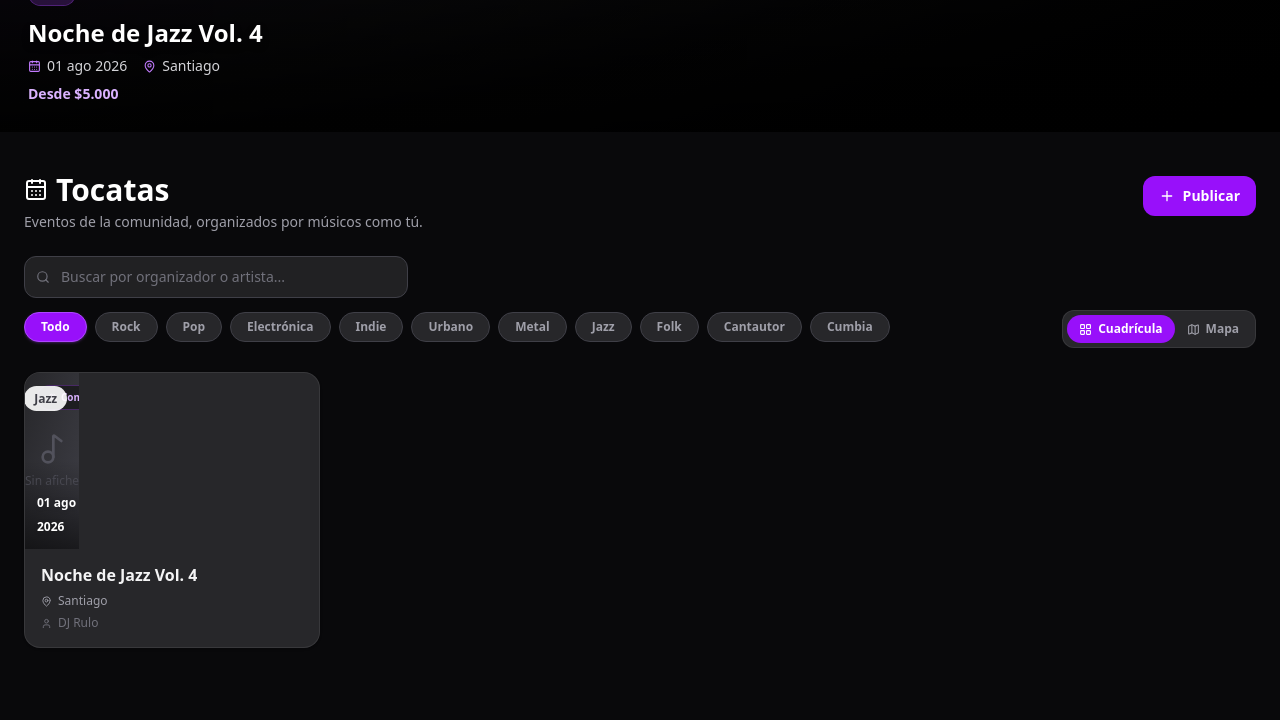
it: TocatasBoard — compra de entradas y gestión (dinero real) › muestra un error inline (sin bloquear el modal) si el checkout falla
This screenshot has width=1280, height=720.
(page scrolled)
Click the button "Noche de Jazz Vol. 4" at (52, 461), box [24, 372, 320, 648]
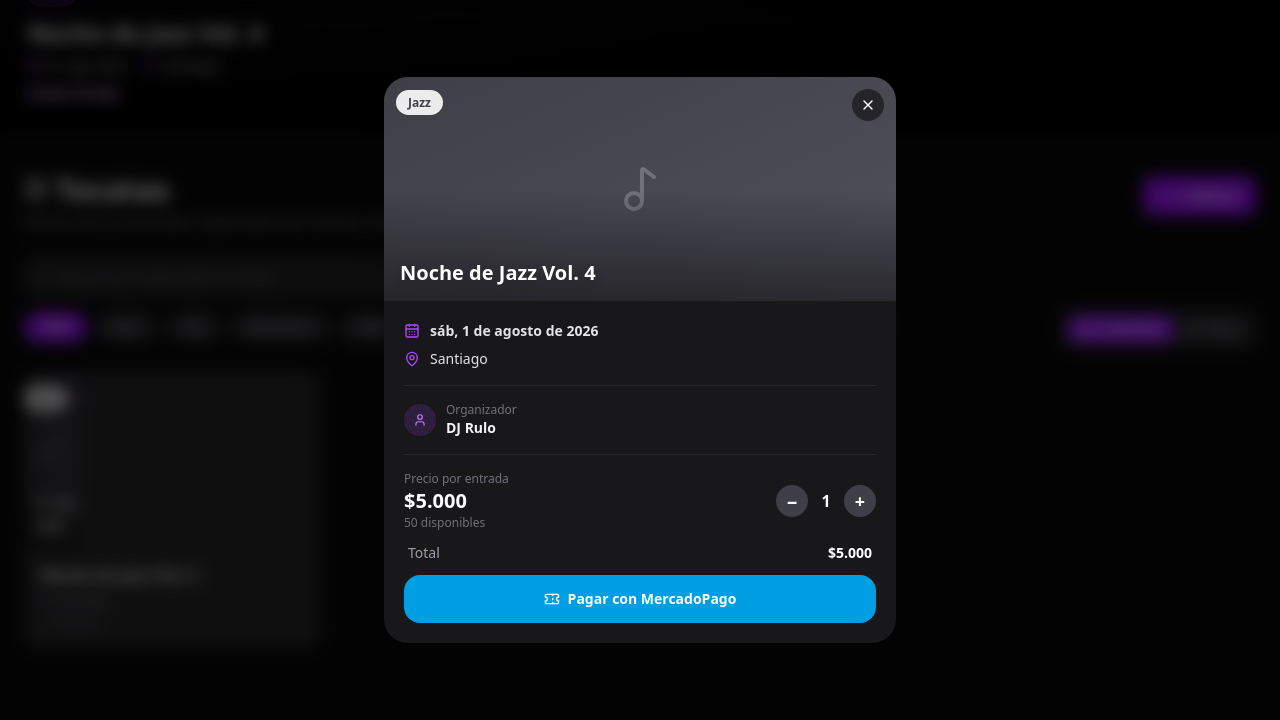
Click the button "Pagar con MercadoPago" at (640, 599), box [404, 575, 876, 623]
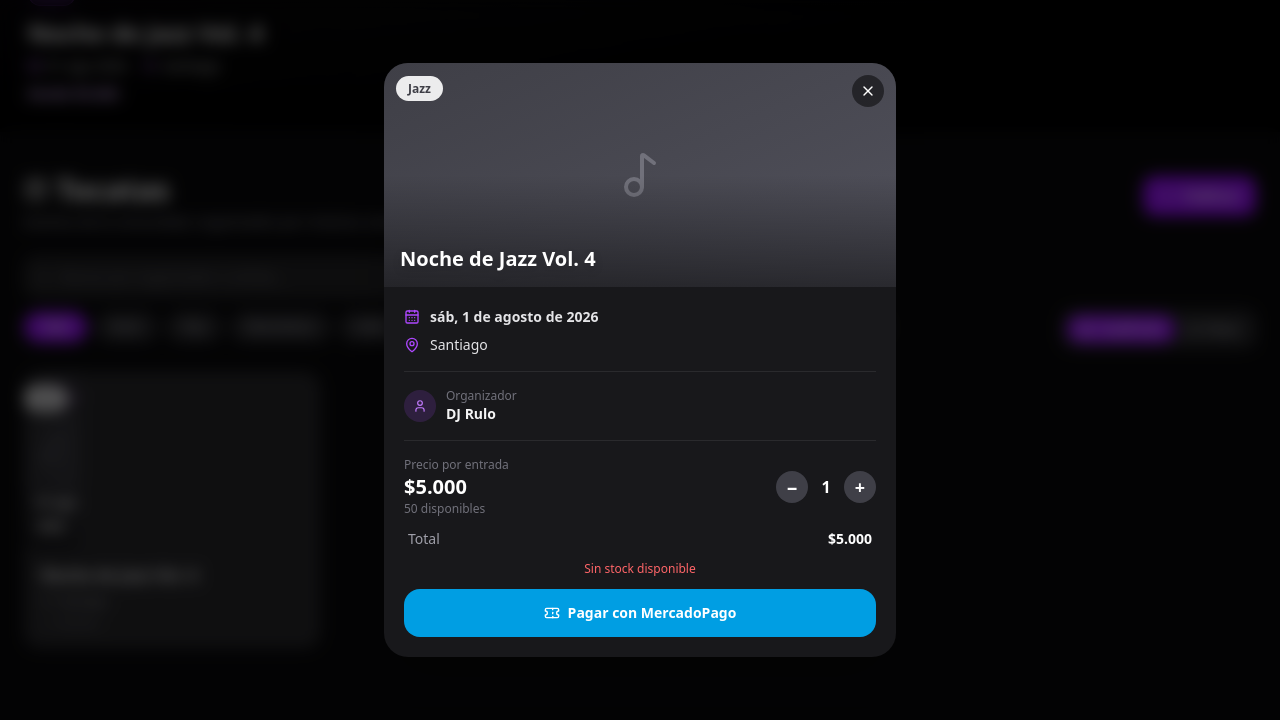
Result: the button "Pagar con MercadoPago" is shown at [404, 589, 876, 637]
Result: the text "Sin stock disponible" is shown at [584, 560, 696, 577]
